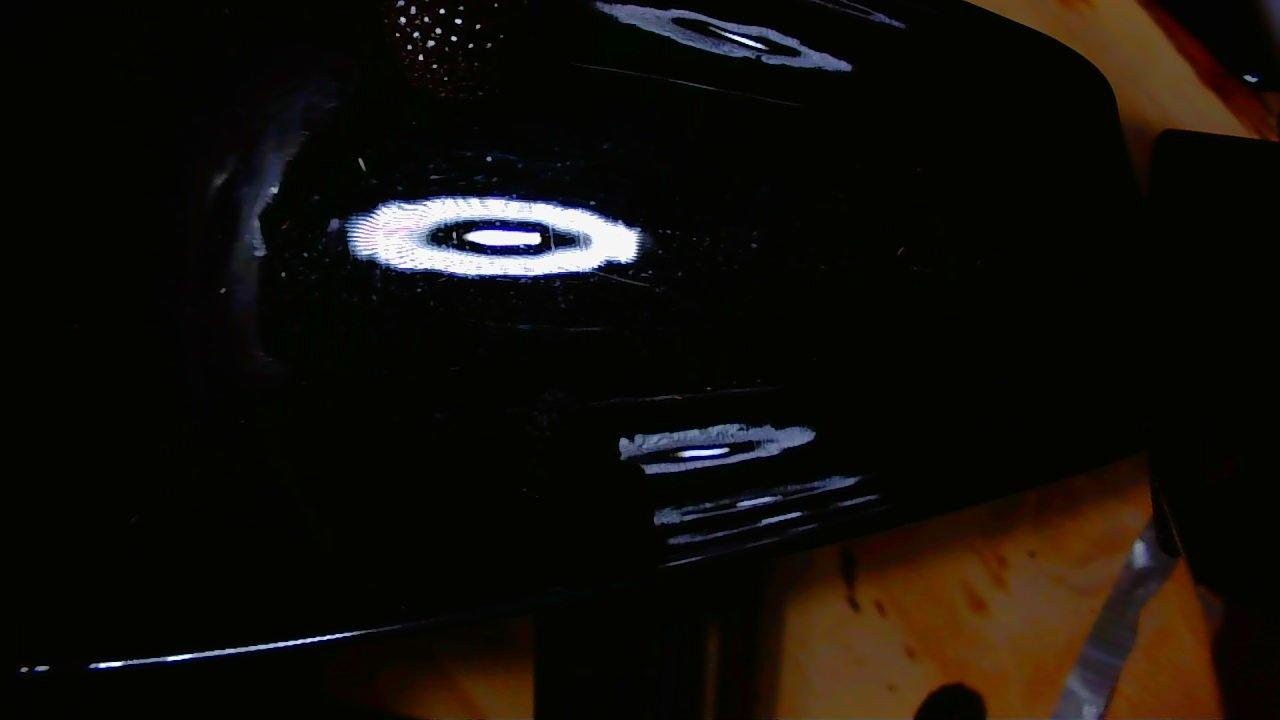berry: (384, 0, 524, 96)
